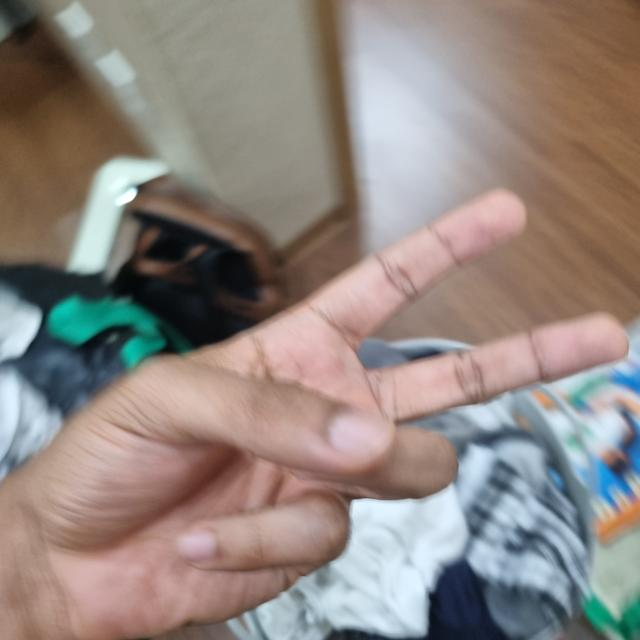Scissors: (0, 193, 625, 639)
